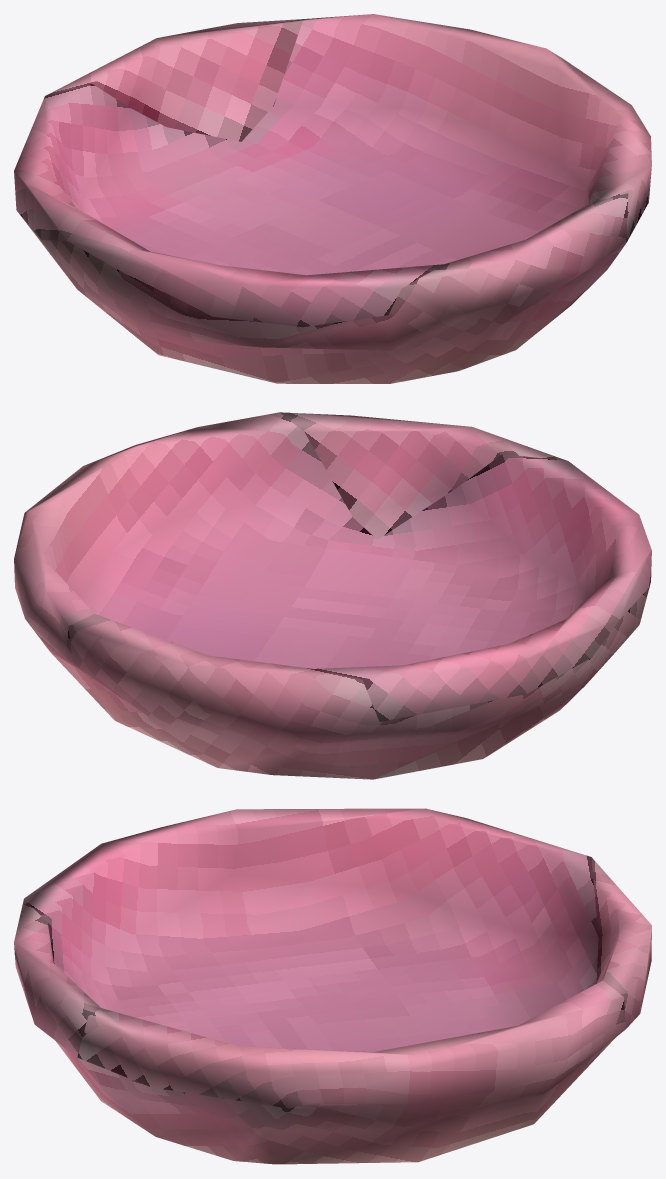
The model's file is Cole_Hardware_Saucer_Electric-low.glb.
The picture shows the model from 3 angles, top to bottom: view 1: azimuth 30°, elevation 25°; view 2: azimuth 150°, elevation 25°; view 3: azimuth 270°, elevation 25°; orthographic projection.
Parts seen in each view (by area): view 1: Cole_Hardware_Saucer_Electric; view 2: Cole_Hardware_Saucer_Electric; view 3: Cole_Hardware_Saucer_Electric.
Part boxes in pixels (x1,y1,x2,y2): Cole_Hardware_Saucer_Electric: [14, 14, 651, 383]; Cole_Hardware_Saucer_Electric: [14, 412, 651, 779]; Cole_Hardware_Saucer_Electric: [14, 808, 651, 1164].
Bounding box in the file's own units: 0.1239 × 0.0312 × 0.1224.
Materials: 1 (1 with a texture image).
